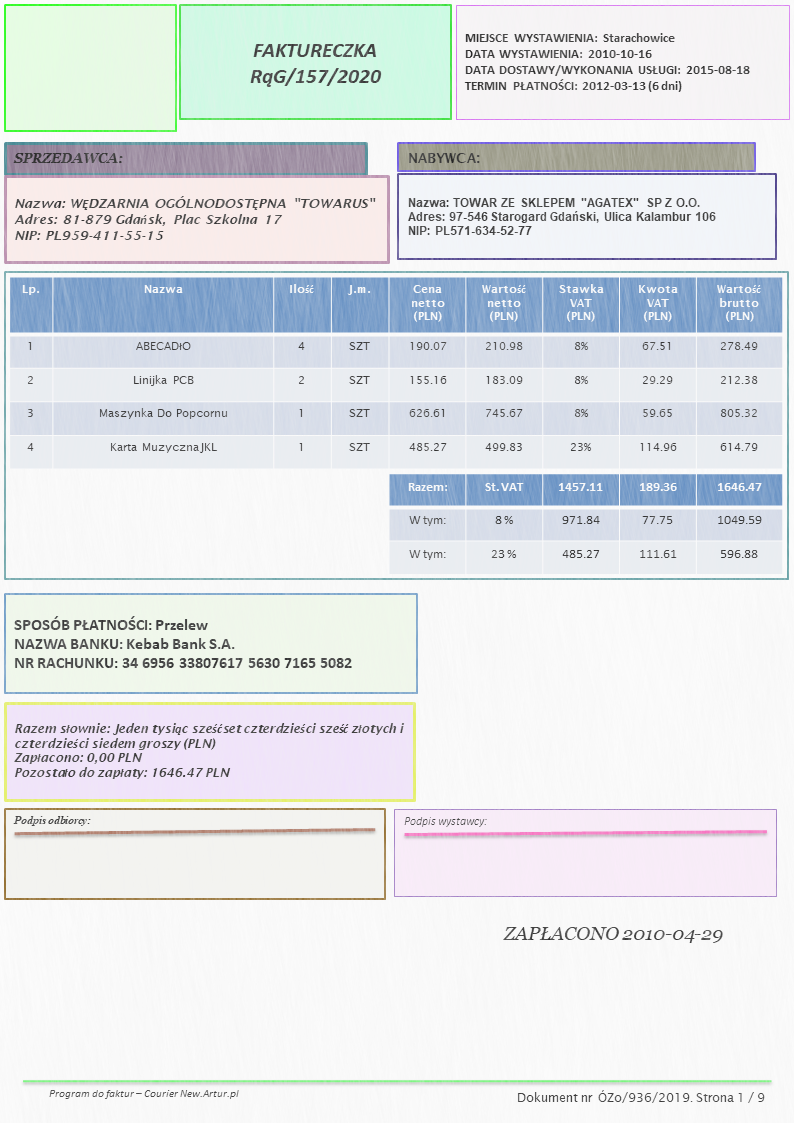Table: (8, 275, 783, 469), (387, 473, 784, 574)
TextBox: (11, 720, 407, 781), (10, 615, 355, 673), (462, 31, 752, 93), (11, 195, 377, 243), (405, 195, 717, 237), (247, 40, 383, 91), (501, 923, 725, 947), (515, 1090, 766, 1106), (45, 1086, 241, 1102), (10, 150, 124, 166), (405, 149, 482, 168), (402, 814, 488, 829), (11, 812, 93, 827)
